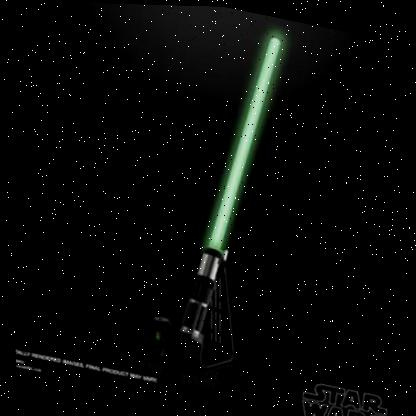lightsaber: (157, 18, 298, 356)
